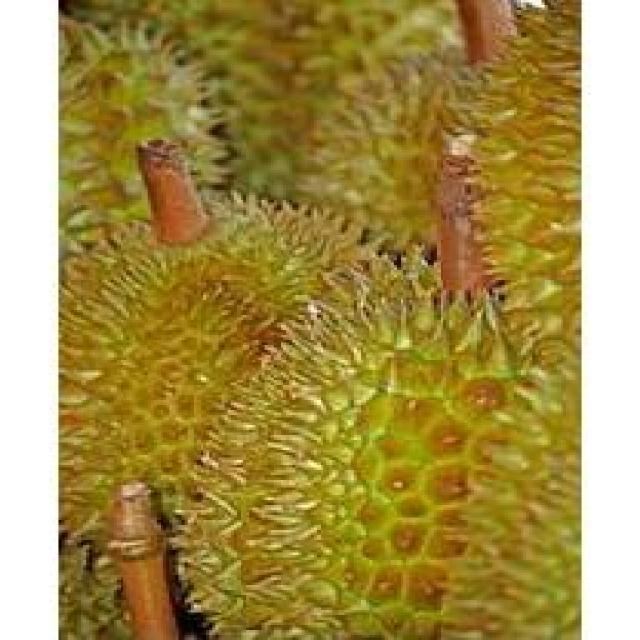fruit: (212, 250, 591, 640)
